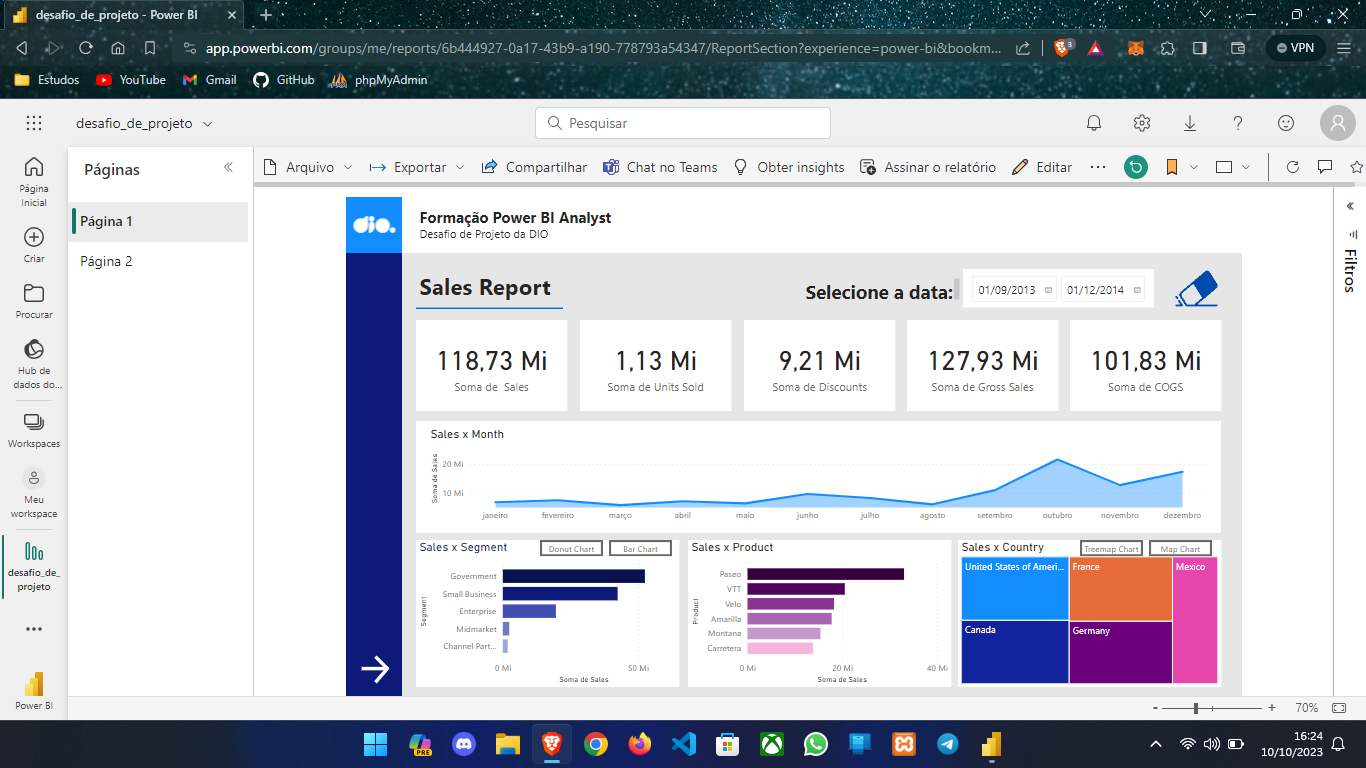

Layout of this report page (visuals, bound fields, positions):
{"tool":"powerbi","page":{"name":"Página 1","canvas":[1280,720],"ordinal":0},"visuals":[{"type":"shape","title":"Fundo","box":[0,0,1280,720],"z":0},{"type":"shape","title":"Fundo Logo","box":[0,0,80,80],"z":0,"group":"g10"},{"type":"shape","title":"Fundo Título","box":[80,0,1200,80],"z":0,"group":"g11"},{"type":"textbox","box":[100,100,210,58],"z":0,"group":"g9"},{"type":"textbox","box":[651.7,110.8,230,42.5],"z":0,"group":"g8"},{"type":"shape","box":[100,176,216,130],"z":0,"group":"g7"},{"type":"shape","box":[100,320,1150,160],"z":0,"group":"g6"},{"type":"shape","box":[100,490,376,210],"z":0,"group":"g5"},{"type":"actionButton","title":"Botão Rosca","box":[276.7,490,90,23.3],"z":0,"group":"g2"},{"type":"shape","box":[488,490,376,210],"z":0,"group":"g4"},{"type":"shape","box":[874,490,376,210],"z":0,"group":"g1"},{"type":"actionButton","title":"Botão Treemap","box":[1048.3,490,90,23.3],"z":0,"group":"g3"},{"type":"image","box":[5.1,3.9,70,70],"z":1000,"group":"g10"},{"type":"textbox","box":[100,8,300,62],"z":1000,"group":"g11"},{"type":"slicer","fields":{"Values":["financials.Date"]},"box":[882.3,101.7,273.3,55],"z":1000,"group":"g8"},{"type":"shape","title":"Linha","box":[100,150,210,18],"z":1000,"group":"g9"},{"type":"shape","box":[334,176,216,130],"z":1000,"group":"g7"},{"type":"areaChart","title":"Sales x Month","fields":{"Category":["financials.Date.Variation.Hierarquia de datas.Mês"],"Y":["Sum(financials. Sales)"]},"box":[116,328,1120,144],"z":1000,"group":"g6"},{"type":"barChart","title":"Sales x Segment","fields":{"Y":["Sum(financials. Sales)"],"Category":["financials.Segment"]},"box":[100,490,376,210],"z":1000,"group":"g5"},{"type":"actionButton","title":"Botão Barra","box":[375,490,90,23.3],"z":1000,"group":"g2"},{"type":"clusteredBarChart","title":"Sales x Product","fields":{"Category":["financials.Product"],"Y":["Sum(financials. Sales)"]},"box":[488,490,376,210],"z":1000,"group":"g4"},{"type":"actionButton","title":"Botão Mapa","box":[1146.6,490,90,23.3],"z":1000,"group":"g3"},{"type":"shape","box":[0,80,80,640],"z":2000,"group":"g10"},{"type":"image","title":"Ícone Borracha","box":[1179.7,95,70,70],"z":2000,"group":"g8"},{"type":"shape","box":[568,176,216,130],"z":2000,"group":"g7"},{"type":"group","id":"g1","title":"Sales x Country","box":[874,490,376,210],"z":2000},{"type":"treemap","title":"Sales x Country","fields":{"Group":["financials.Country"],"Values":["Sum(financials. Sales)"]},"box":[874,490,376,210],"z":2000,"group":"g1"},{"type":"group","id":"g2","title":"Botões","box":[276.7,490,188.3,23.3],"z":2500,"group":"g5"},{"type":"group","id":"g3","title":"Botões","box":[1048.3,490,188.3,23.3],"z":2500,"group":"g1"},{"type":"actionButton","title":"Botão Avanço","box":[15,650,50,50],"z":2500,"group":"g10"},{"type":"actionButton","box":[1179.7,95,70,70],"z":3000,"group":"g8"},{"type":"shape","box":[802,176,215,130],"z":3000,"group":"g7"},{"type":"shape","box":[1034,176,215,130],"z":4000,"group":"g7"},{"type":"card","fields":{"Values":["Sum(financials. Sales)"]},"box":[100,176,216,130],"z":5000,"group":"g7"},{"type":"card","fields":{"Values":["Sum(financials.Units Sold)"]},"box":[334,176,216,130],"z":6000,"group":"g7"},{"type":"group","id":"g4","title":"Sales x Product","box":[488,490,376,210],"z":6000},{"type":"group","id":"g5","title":"Sales x Segment","box":[100,490,376,210],"z":6250},{"type":"group","id":"g6","title":"Sales x Month","box":[100,320,1150,160],"z":6500},{"type":"group","id":"g7","title":"Cards","box":[100,176,1150,130],"z":7000},{"type":"card","fields":{"Values":["Sum(financials.Discounts)"]},"box":[568,176,216,130],"z":7000,"group":"g7"},{"type":"group","id":"g8","title":"Filtro por Data","box":[651.7,95,598,70],"z":7500},{"type":"group","id":"g9","title":"Sales Report","box":[100,100,210,68],"z":8000},{"type":"card","fields":{"Values":["Sum(financials.Gross Sales)"]},"box":[802,176,216,130],"z":8000,"group":"g7"},{"type":"group","id":"g10","title":"Barra Lateral","box":[0,0,80,720],"z":9000},{"type":"card","fields":{"Values":["Sum(financials.COGS)"]},"box":[1034,176,216,130],"z":9000,"group":"g7"},{"type":"group","id":"g11","title":"Título e Subtítulo","box":[80,0,1200,80],"z":10000}]}

Visuals, with their boxes on the page's 1280x720 design canvas (x1, y1, x2, y2). These are canvas units, not pixel positions in the 1366x768 screenshot, which may show the page scaled, cropped or inside an application window:
"Fundo" shape: bbox=[0, 0, 1280, 720]
"Fundo Logo" shape: bbox=[0, 0, 80, 80]
"Fundo Título" shape: bbox=[80, 0, 1280, 80]
textbox: bbox=[100, 100, 310, 158]
textbox: bbox=[652, 111, 882, 153]
shape: bbox=[100, 176, 316, 306]
shape: bbox=[100, 320, 1250, 480]
shape: bbox=[100, 490, 476, 700]
"Botão Rosca" actionButton: bbox=[277, 490, 367, 513]
shape: bbox=[488, 490, 864, 700]
shape: bbox=[874, 490, 1250, 700]
"Botão Treemap" actionButton: bbox=[1048, 490, 1138, 513]
image: bbox=[5, 4, 75, 74]
textbox: bbox=[100, 8, 400, 70]
slicer - financials.Date: bbox=[882, 102, 1156, 157]
"Linha" shape: bbox=[100, 150, 310, 168]
shape: bbox=[334, 176, 550, 306]
"Sales x Month" areaChart: bbox=[116, 328, 1236, 472]
"Sales x Segment" barChart: bbox=[100, 490, 476, 700]
"Botão Barra" actionButton: bbox=[375, 490, 465, 513]
"Sales x Product" clusteredBarChart: bbox=[488, 490, 864, 700]
"Botão Mapa" actionButton: bbox=[1147, 490, 1237, 513]
shape: bbox=[0, 80, 80, 720]
"Ícone Borracha" image: bbox=[1180, 95, 1250, 165]
shape: bbox=[568, 176, 784, 306]
"Sales x Country" group: bbox=[874, 490, 1250, 700]
"Sales x Country" treemap: bbox=[874, 490, 1250, 700]
"Botões" group: bbox=[277, 490, 465, 513]
"Botões" group: bbox=[1048, 490, 1237, 513]
"Botão Avanço" actionButton: bbox=[15, 650, 65, 700]
actionButton: bbox=[1180, 95, 1250, 165]
shape: bbox=[802, 176, 1017, 306]
shape: bbox=[1034, 176, 1249, 306]
card - Sum(financials. Sales): bbox=[100, 176, 316, 306]
card - Sum(financials.Units Sold): bbox=[334, 176, 550, 306]
"Sales x Product" group: bbox=[488, 490, 864, 700]
"Sales x Segment" group: bbox=[100, 490, 476, 700]
"Sales x Month" group: bbox=[100, 320, 1250, 480]
"Cards" group: bbox=[100, 176, 1250, 306]
card - Sum(financials.Discounts): bbox=[568, 176, 784, 306]
"Filtro por Data" group: bbox=[652, 95, 1250, 165]
"Sales Report" group: bbox=[100, 100, 310, 168]
card - Sum(financials.Gross Sales): bbox=[802, 176, 1018, 306]
"Barra Lateral" group: bbox=[0, 0, 80, 720]
card - Sum(financials.COGS): bbox=[1034, 176, 1250, 306]
"Título e Subtítulo" group: bbox=[80, 0, 1280, 80]
